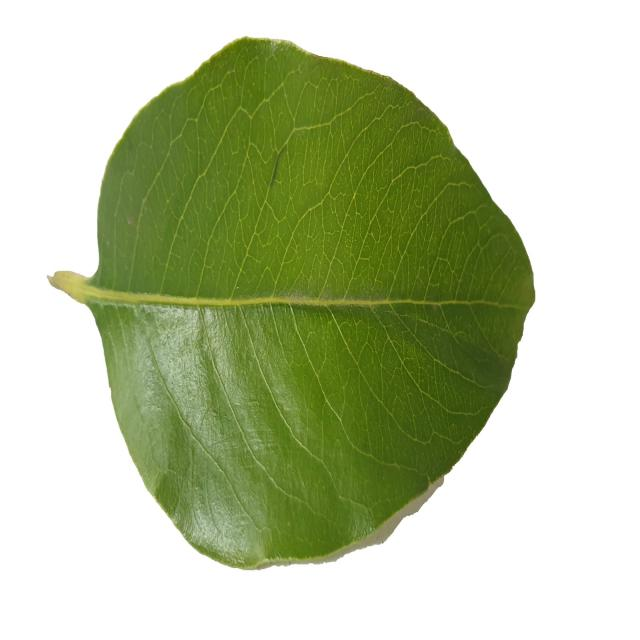Medicinal-Sandalwood: (46, 35, 534, 573)
